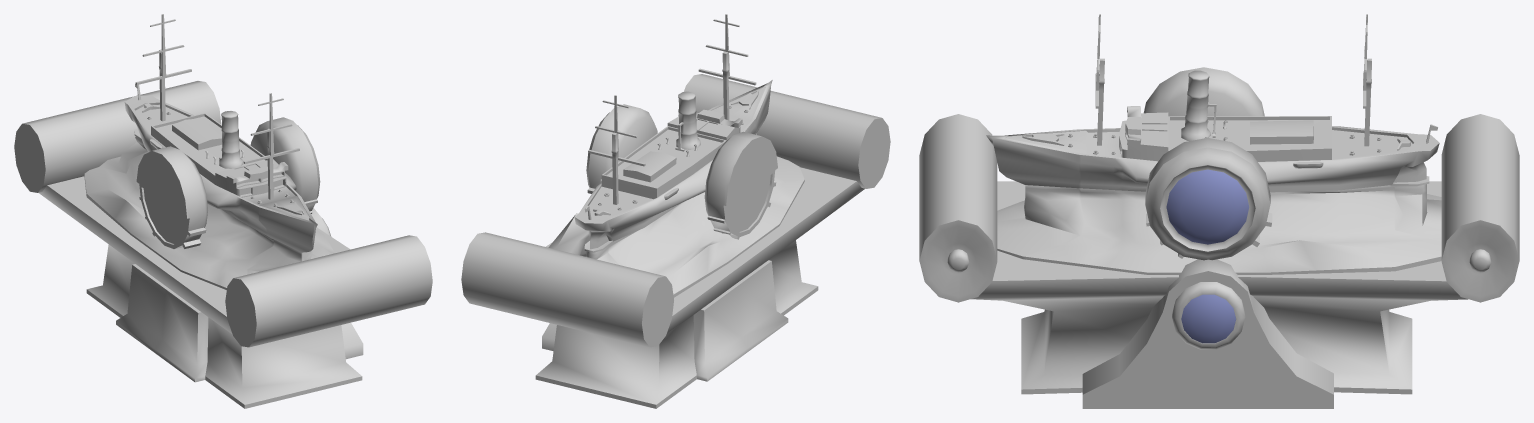
File: Paddle Steamship Mantle Clock 01.fbx
The picture shows the model from 3 angles, left to right: view 1: azimuth 30°, elevation 25°; view 2: azimuth 150°, elevation 25°; view 3: azimuth 270°, elevation 25°; orthographic projection. The views are drawn at different scales.
Parts seen in each view (by area): view 1: Cube_002; view 2: Cube_002; view 3: Cube_002.
Part boxes in pixels (box(x1,y1,x2,y2)): Cube_002: box(14, 14, 432, 408); Cube_002: box(461, 14, 890, 408); Cube_002: box(919, 14, 1519, 408).
Size of the model in its own units: 39.36 by 56.8 by 89.82.
